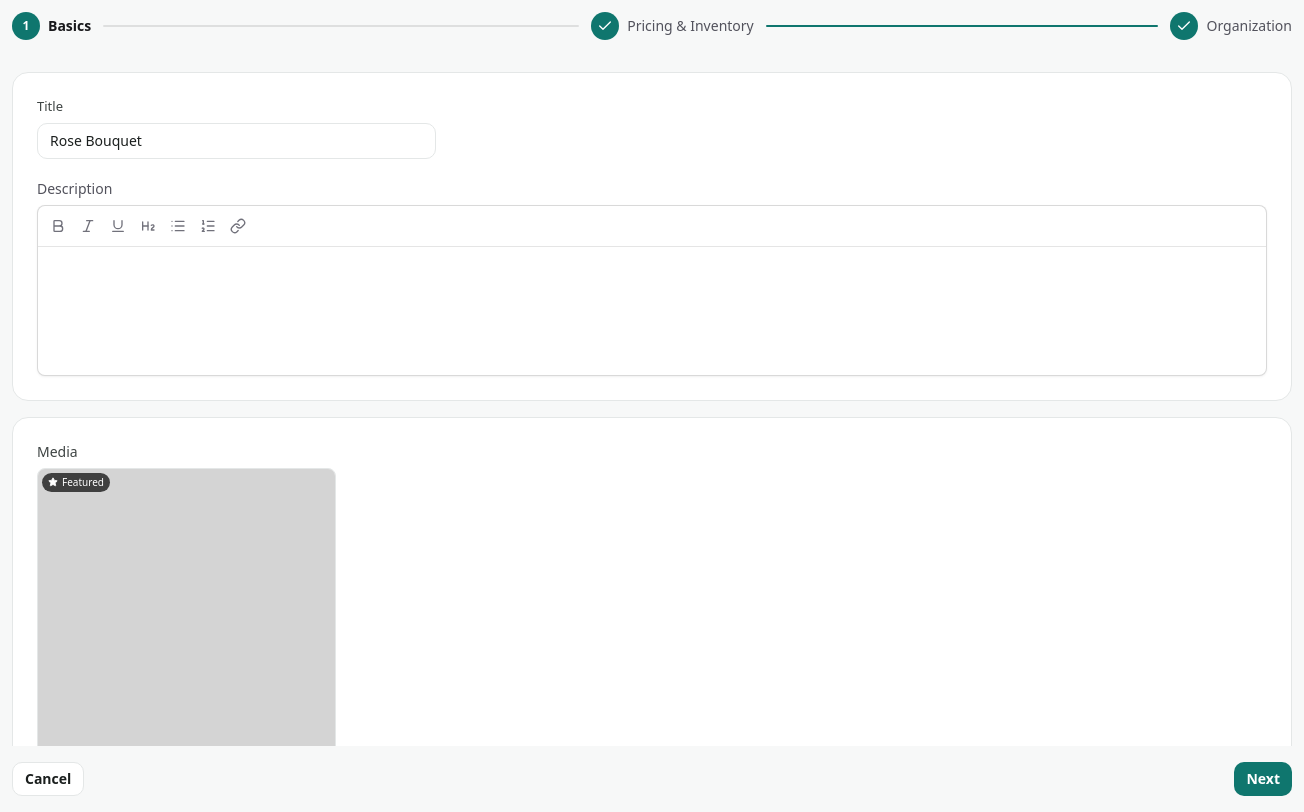
Test: ProductForm wizard › blocks submit with no denominations and bounces back to the Pricing step
Step 1. Click the button "Pricing & Inventory" → (672, 26), box [591, 12, 754, 40]
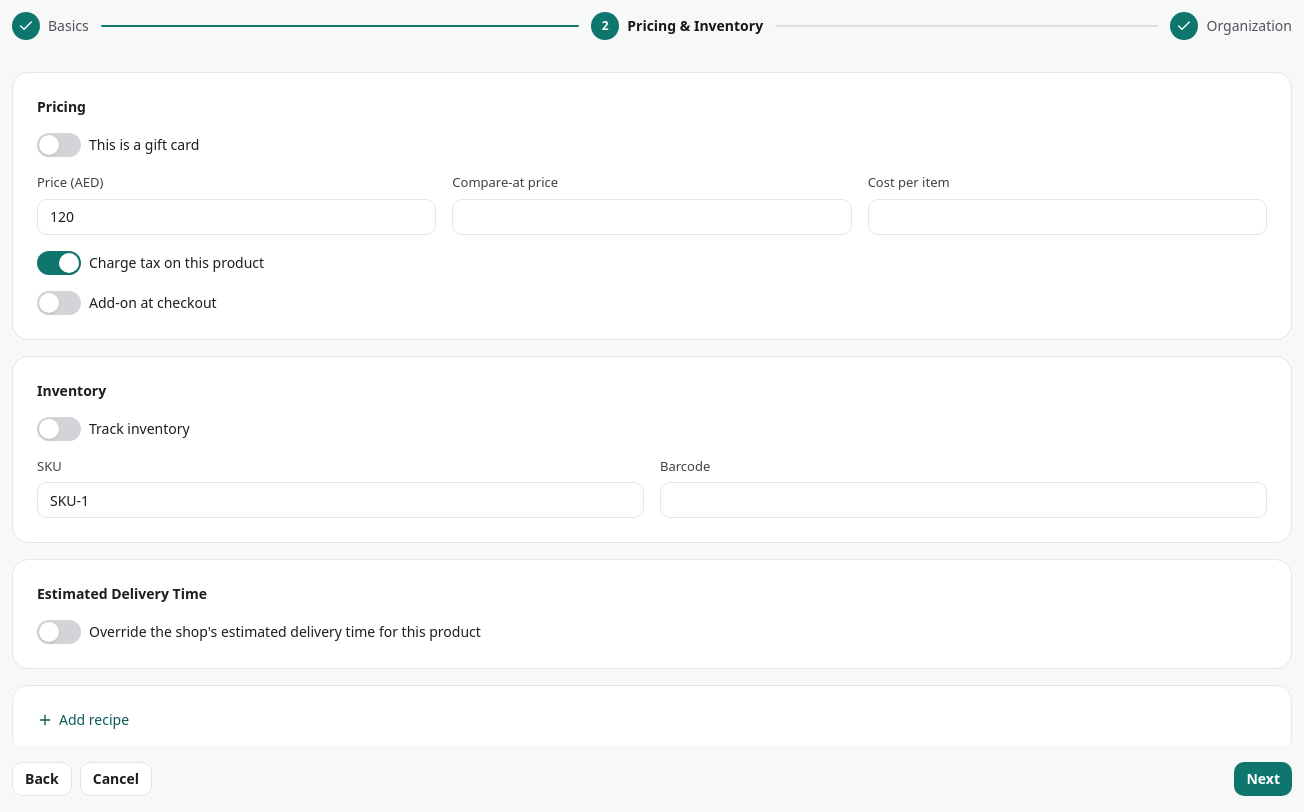
expect the text "Price (AED)" is shown: met, box [37, 173, 103, 192]
Step 2. Click the switch next to "This is a gift card" → (59, 145), box [37, 133, 81, 157]
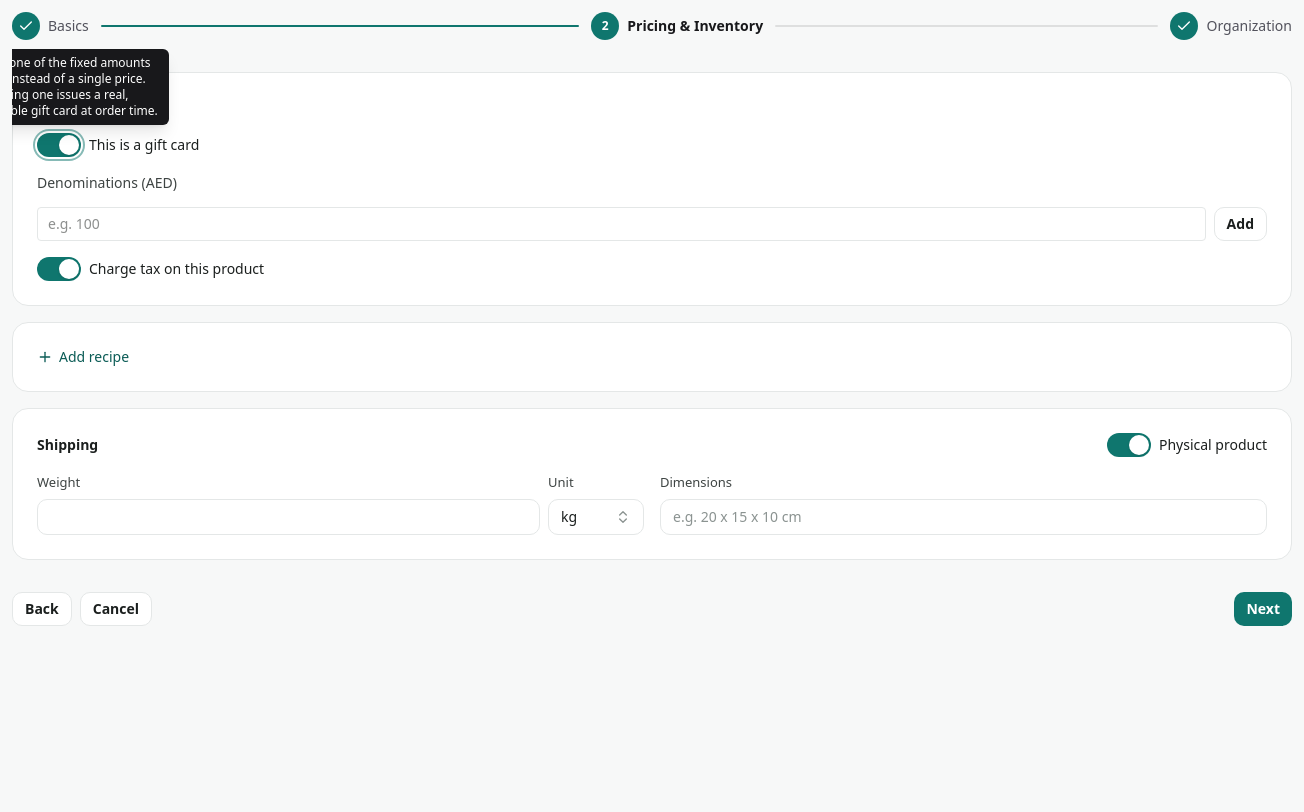
expect the text "Denominations (AED)" is shown: met, box [37, 173, 177, 192]
Step 3. Click the button "Organization" → (1231, 26), box [1170, 12, 1292, 40]
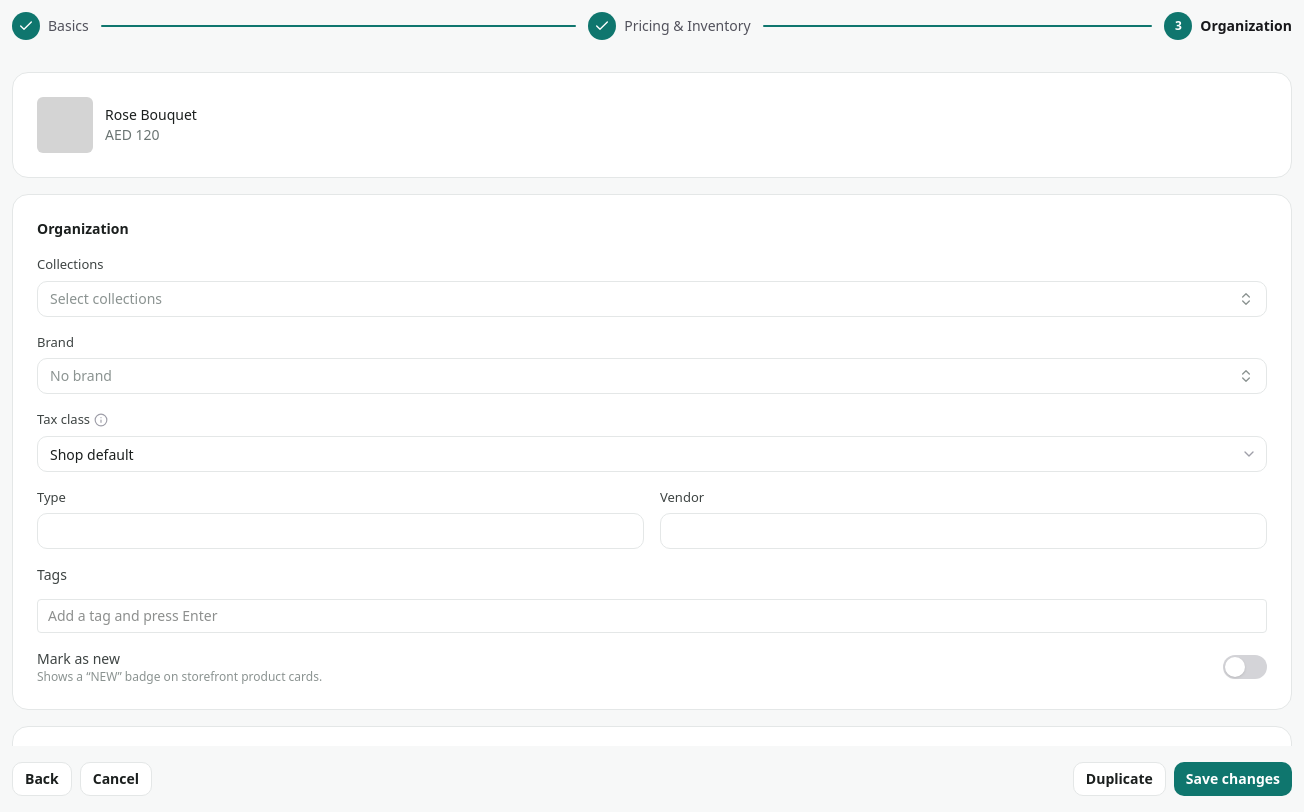
expect the button "Save changes" is shown: met
Step 4. Click the button "Save changes" → (1233, 779), box [1174, 762, 1292, 796]
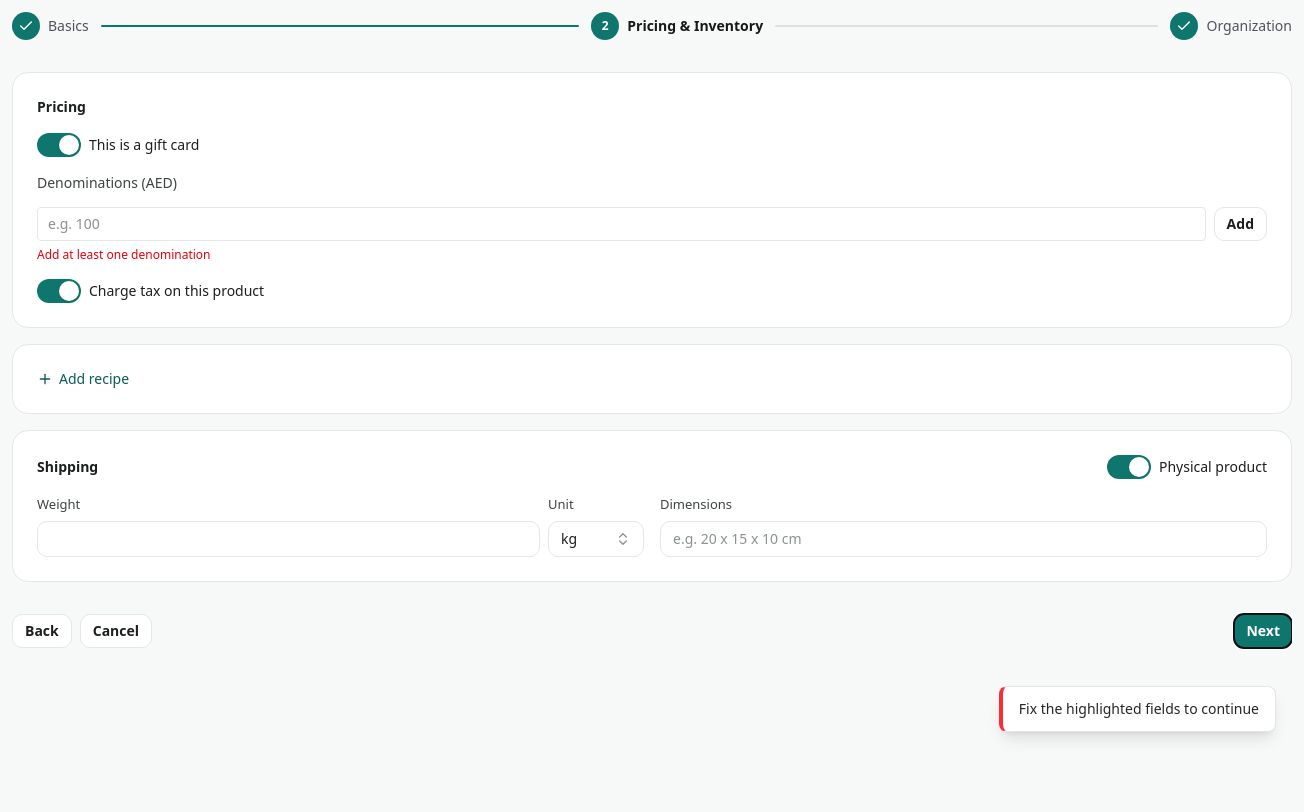
expect the text "Denominations (AED)" is shown: met, box [37, 173, 177, 192]
expect the text "Add at least one denomination" is shown: met, box [37, 246, 210, 263]
